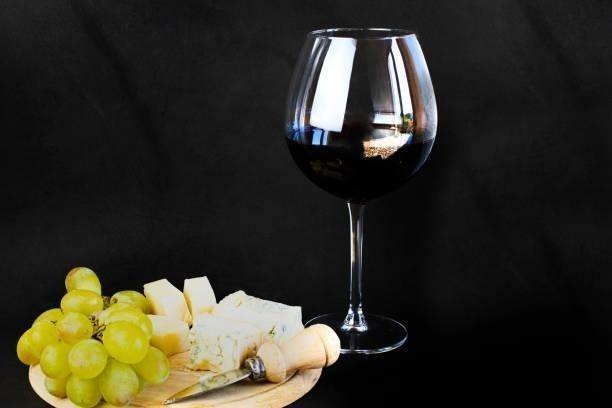glass-wine: (284, 26, 438, 354)
